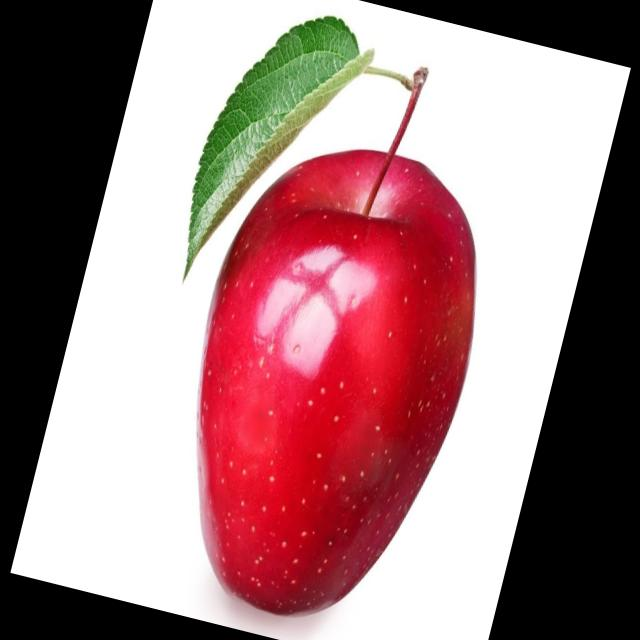apple: (138, 93, 529, 640)
